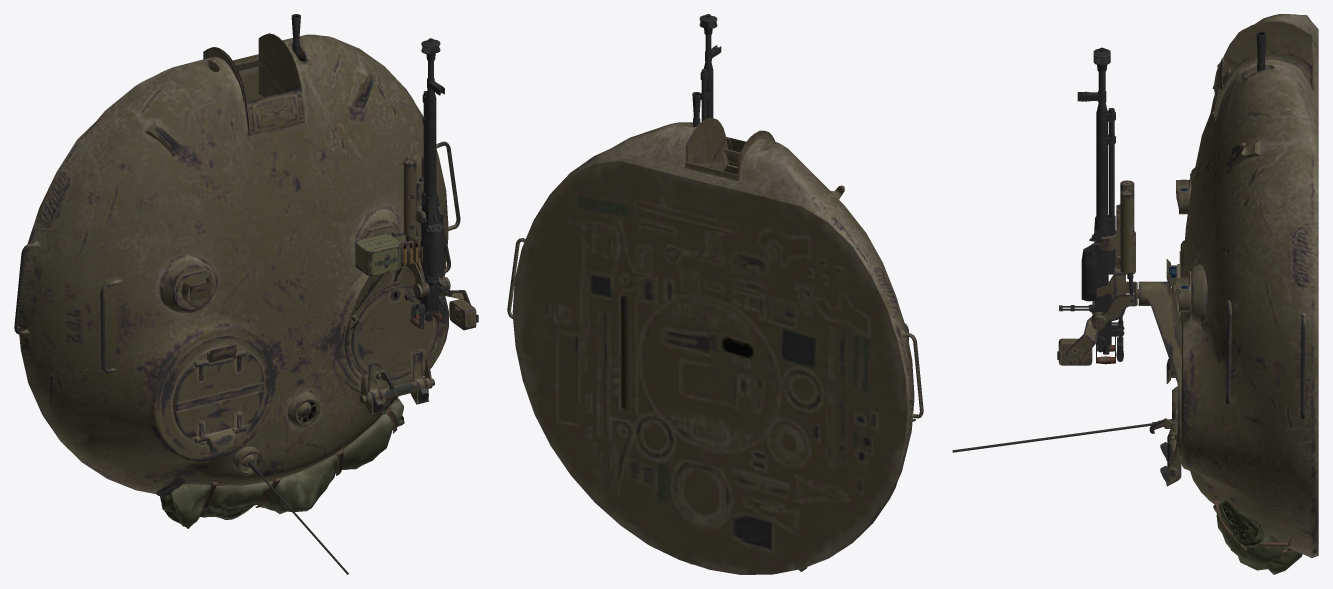
File: Turret_02.glb
3 renders of one model, left to right at view 1: azimuth 30°, elevation 25°; view 2: azimuth 150°, elevation 25°; view 3: azimuth 270°, elevation 25°, orthographic. The views are drawn at different scales.
Visible parts, largest first — view 1: set_0_group_0; view 2: set_0_group_0; view 3: set_0_group_0.
Part boxes in pixels (x1=…): set_0_group_0: x1=14, y1=14, x2=478, y2=574; set_0_group_0: x1=507, y1=14, x2=923, y2=574; set_0_group_0: x1=952, y1=14, x2=1318, y2=574.
Bounding box in the file's own units: 2.73 × 3.01 × 1.8.
Materials: 1 (1 with a texture image).
